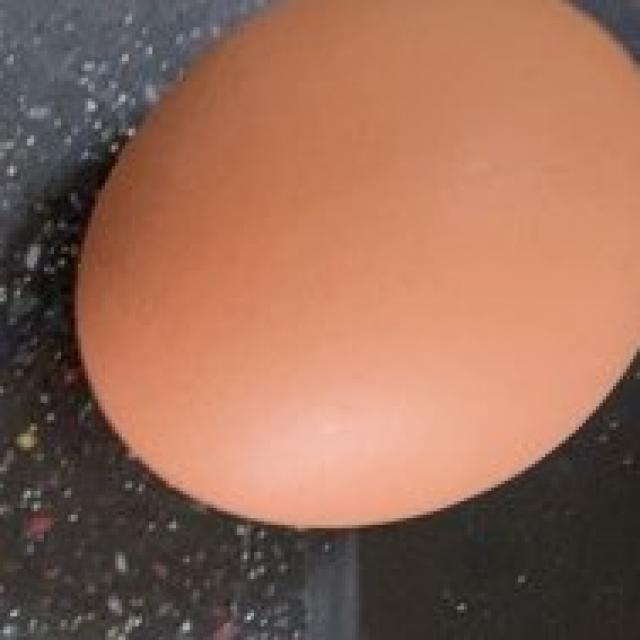egg: (80, 15, 628, 516)
